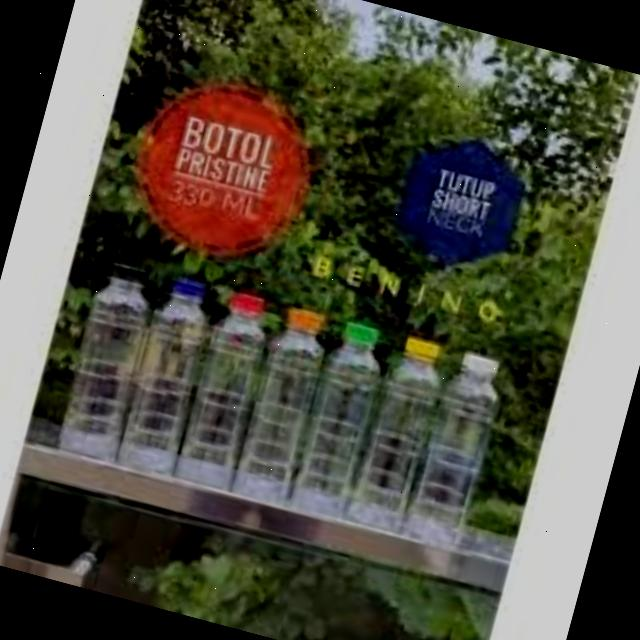trash: (40, 244, 183, 493), (110, 272, 232, 494), (220, 302, 346, 512), (170, 276, 292, 492), (290, 307, 408, 528), (338, 324, 457, 534), (403, 347, 516, 565)
